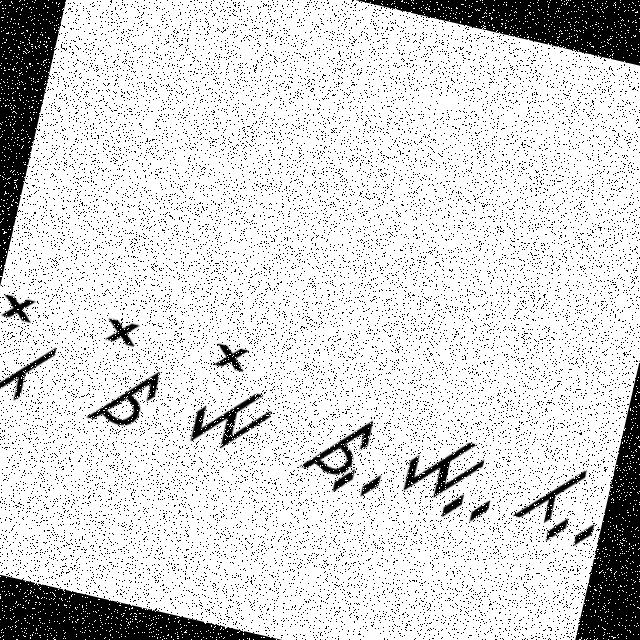bah: (506, 452, 610, 550)
bo: (0, 284, 81, 424)
cah: (286, 392, 398, 505)
co: (75, 312, 179, 439)
mah: (386, 422, 508, 530)
mo: (172, 326, 290, 466)
